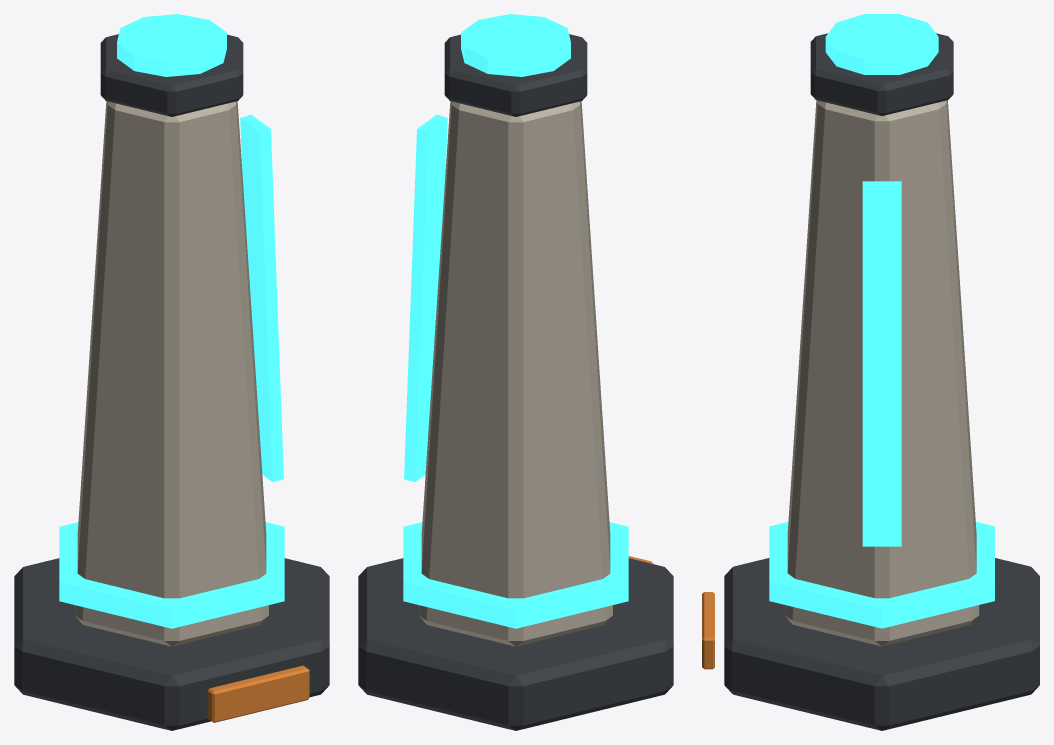
File: TC_PROP_SavePoint_V1.gltf
3 renders of one model, left to right at view 1: azimuth 30°, elevation 25°; view 2: azimuth 150°, elevation 25°; view 3: azimuth 270°, elevation 25°, orthographic.
Parts seen in each view (by area): view 1: TC_SavePoint_Column, TC_SavePoint_Base, TC_SavePoint_Strip, TC_SavePoint_Ring, TC_SavePoint_CapMount, TC_SavePoint_Emitter, TC_SavePoint_WarnPlate; view 2: TC_SavePoint_Column, TC_SavePoint_Base, TC_SavePoint_Strip, TC_SavePoint_Ring, TC_SavePoint_CapMount, TC_SavePoint_Emitter; view 3: TC_SavePoint_Column, TC_SavePoint_Base, TC_SavePoint_Strip, TC_SavePoint_Ring, TC_SavePoint_CapMount, TC_SavePoint_Emitter, TC_SavePoint_WarnPlate.
Boxes of the visible parts, x1,y1,x2,y2 form: TC_SavePoint_Column: (75,101,268,646); TC_SavePoint_Base: (14,558,329,730); TC_SavePoint_Strip: (240,114,283,481); TC_SavePoint_Ring: (59,522,284,628); TC_SavePoint_CapMount: (100,34,243,116); TC_SavePoint_Emitter: (117,14,226,76); TC_SavePoint_WarnPlate: (207,665,309,722); TC_SavePoint_Column: (419,101,612,646); TC_SavePoint_Base: (358,558,673,730); TC_SavePoint_Strip: (404,114,447,481); TC_SavePoint_Ring: (403,522,628,628); TC_SavePoint_CapMount: (444,34,587,116); TC_SavePoint_Emitter: (461,14,570,76); TC_SavePoint_Column: (785,100,979,646); TC_SavePoint_Base: (724,558,1039,730); TC_SavePoint_Strip: (862,181,901,546); TC_SavePoint_Ring: (769,522,994,628); TC_SavePoint_CapMount: (810,33,953,115); TC_SavePoint_Emitter: (825,14,938,74); TC_SavePoint_WarnPlate: (702,592,714,669).
Size of the model in its own units: 0.82 by 1.58 by 0.7787.
